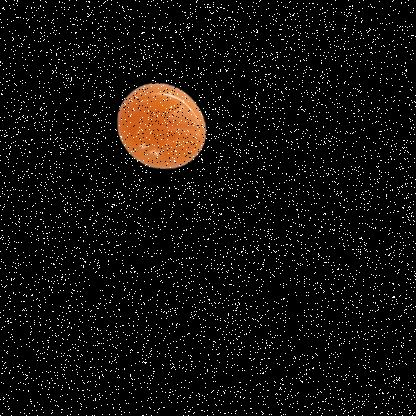welood: (69, 14, 259, 213)
